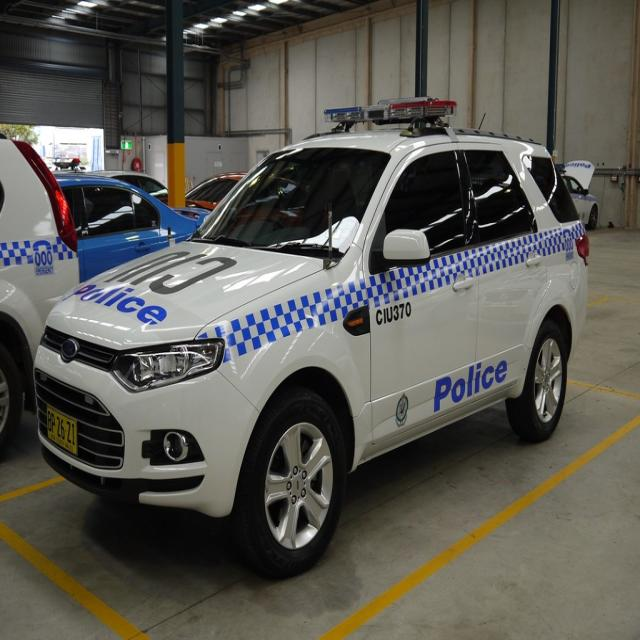car: (31, 93, 594, 575)
